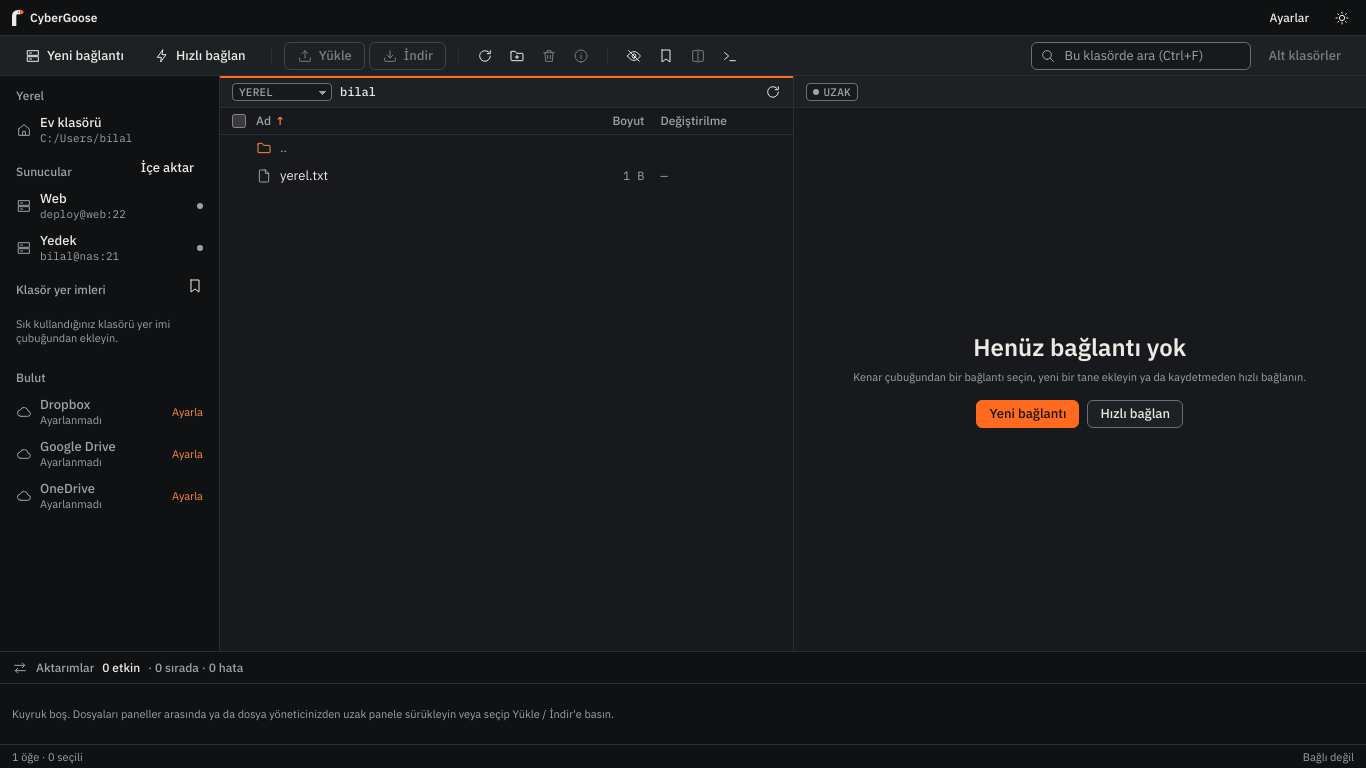
Test: App remote-to-remote › asks for a right-hand connection before copying
Select "FTP · Yedek" in the dropdown named "Sol panel kaynağı": {"x": 284, "y": 92} x1=239 y1=84 x2=329 y2=100
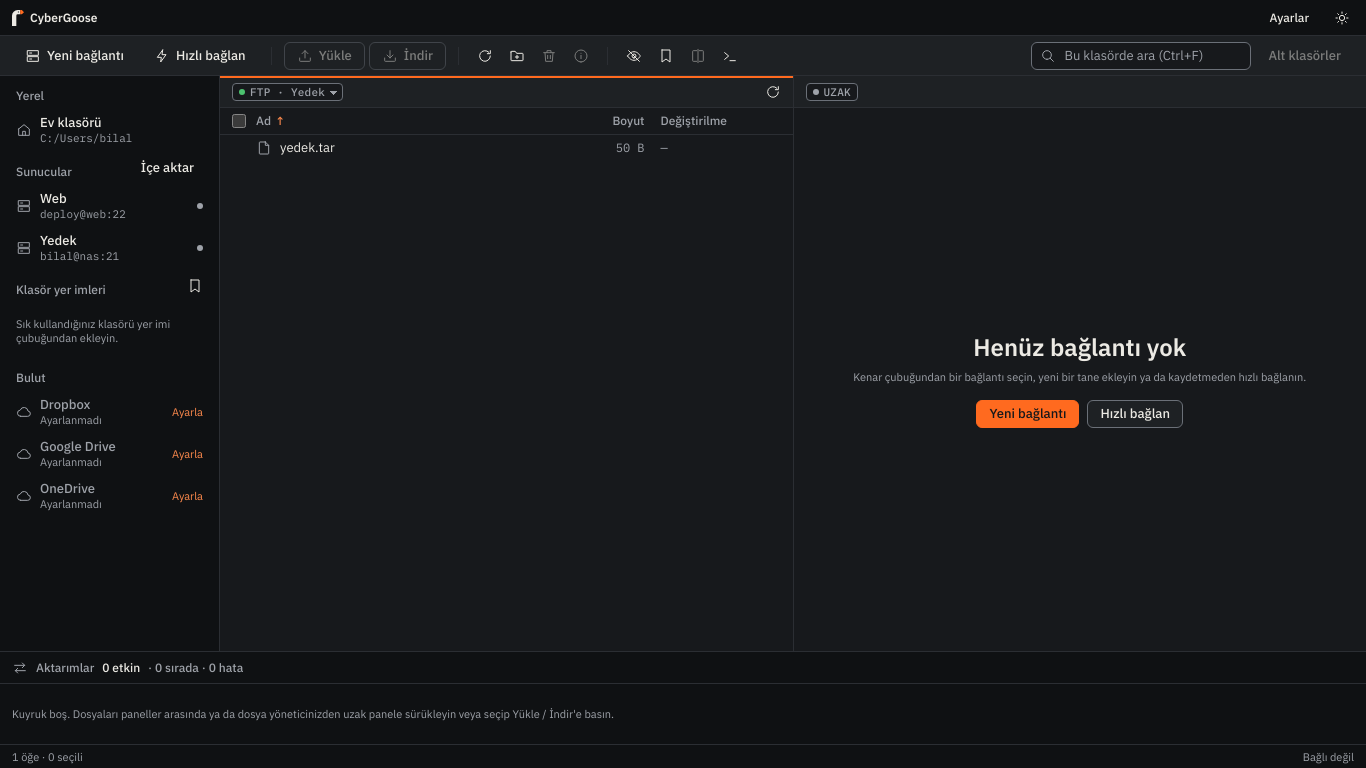
Right-click the text "yedek.tar": {"x": 307, "y": 148} x1=280 y1=138 x2=335 y2=158
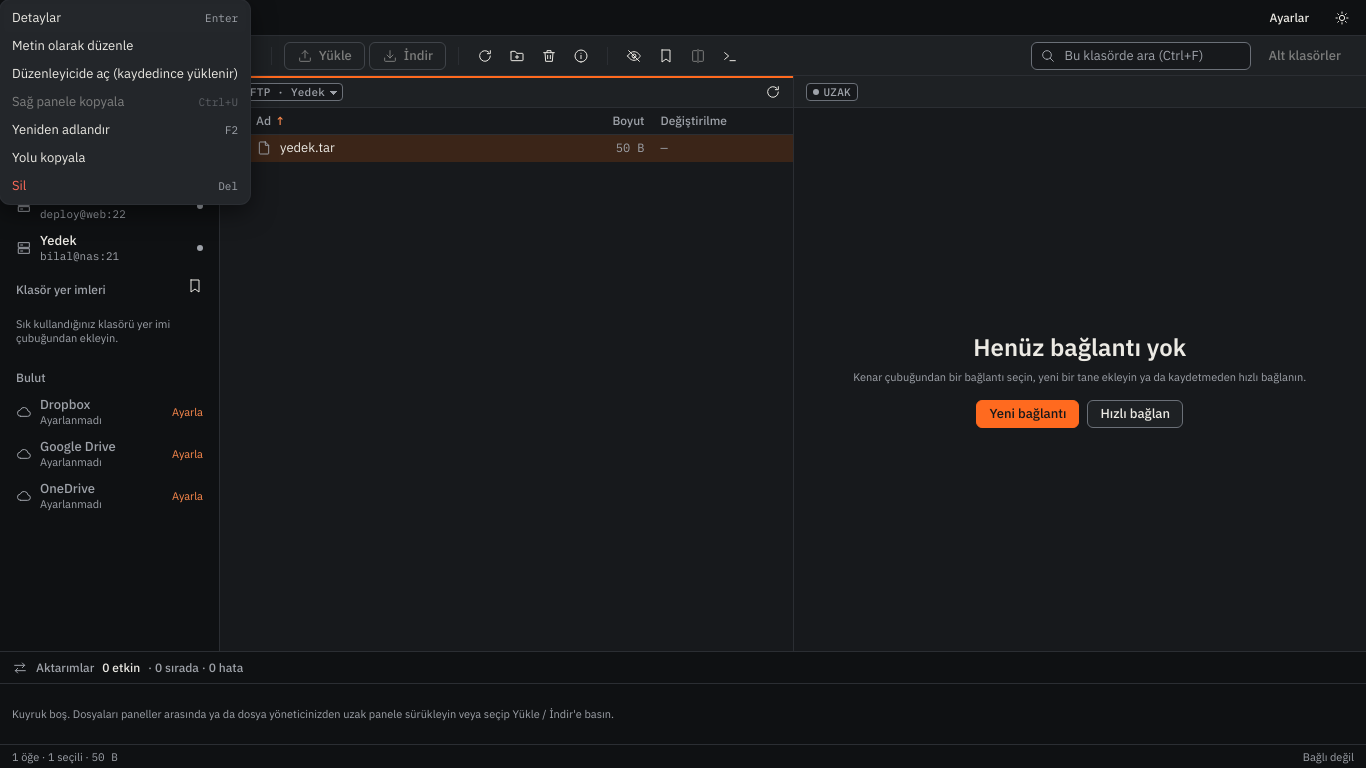
Check: the menu item "Sağ panele kopyala Ctrl+U" is disabled, box x1=4 y1=88 x2=246 y2=116
